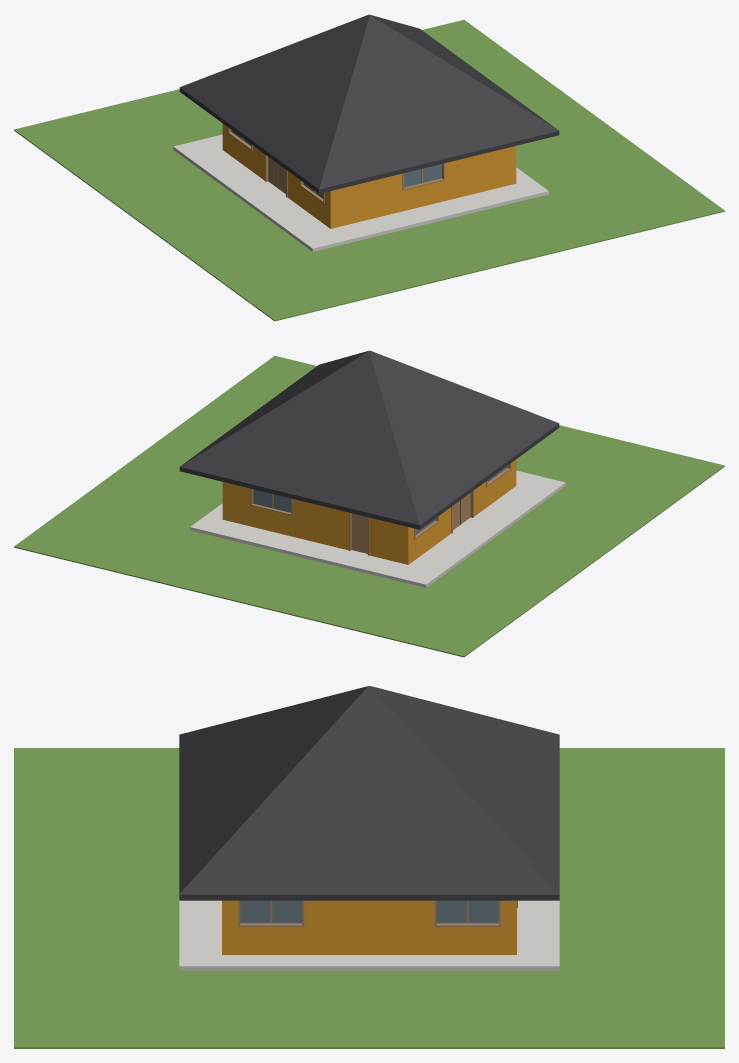
Rendered from bloque13.glb.
3 renders of one model, top to bottom at view 1: azimuth 30°, elevation 25°; view 2: azimuth 150°, elevation 25°; view 3: azimuth 270°, elevation 25°, orthographic. The views are drawn at different scales.
Parts seen in each view (by area): view 1: Bloque 13; view 2: Bloque 13; view 3: Bloque 13.
Boxes of the visible parts, x1,y1,x2,y2 form: Bloque 13: (14,14,724,321); Bloque 13: (14,350,724,657); Bloque 13: (14,686,724,1048).
Size of the model in its own units: 21.45 by 7.12 by 21.52.
